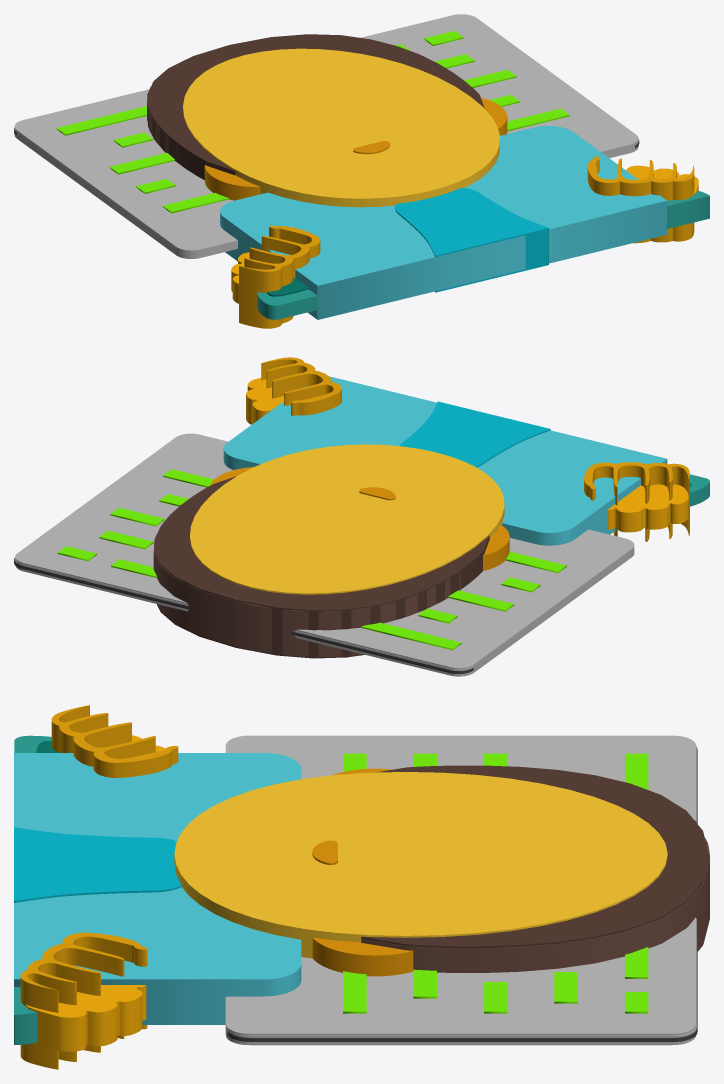
The model's file is emoji_u1f468_200d_1f4bb.glb.
3 views of the same model, one above another, from view 1: azimuth 30°, elevation 25°; view 2: azimuth 150°, elevation 25°; view 3: azimuth 270°, elevation 25° (orthographic). The views are drawn at different scales.
Visible parts, largest first — view 1: emoji_u1f468_200d_1f4bb; view 2: emoji_u1f468_200d_1f4bb; view 3: emoji_u1f468_200d_1f4bb.
Boxes of the visible parts, x1,y1,x2,y2 form: emoji_u1f468_200d_1f4bb: (14,14,709,328); emoji_u1f468_200d_1f4bb: (14,357,709,676); emoji_u1f468_200d_1f4bb: (14,705,709,1069).
Bounding box in the file's own units: 0.0339 × 0.0042 × 0.0333.
